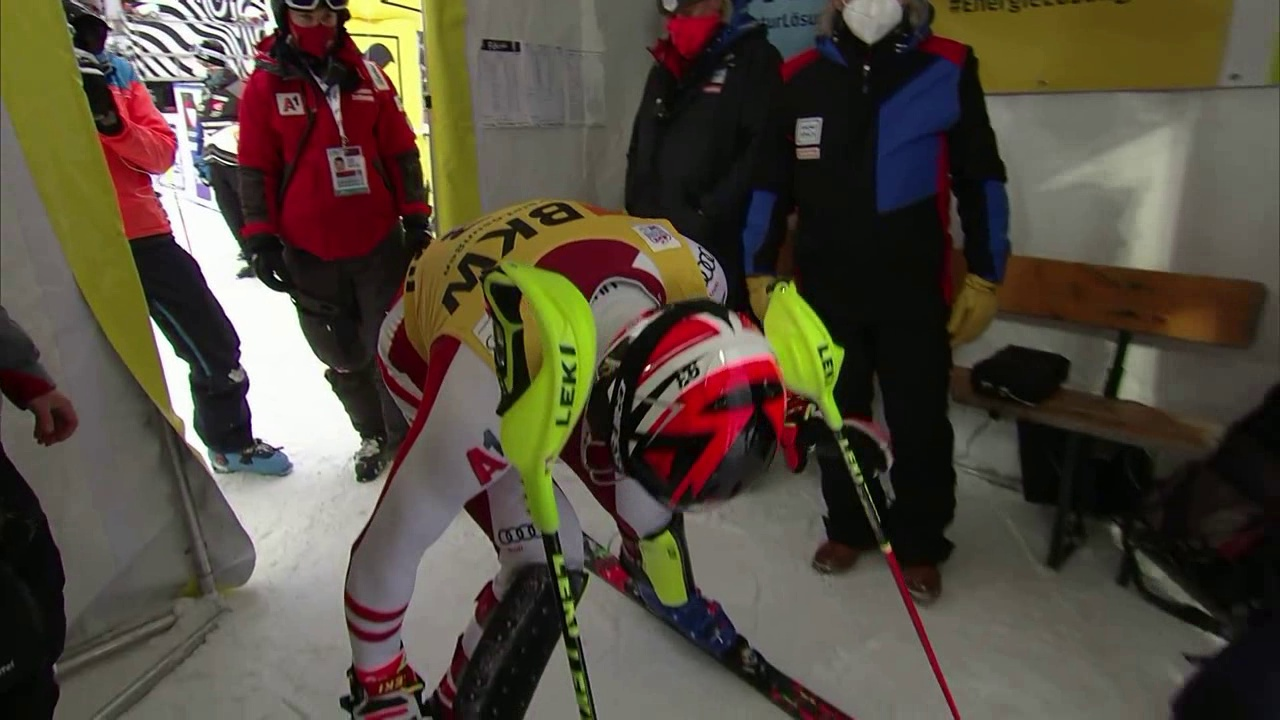a1: (464, 433, 513, 491), (283, 94, 305, 113)
audi: (497, 524, 545, 548)
